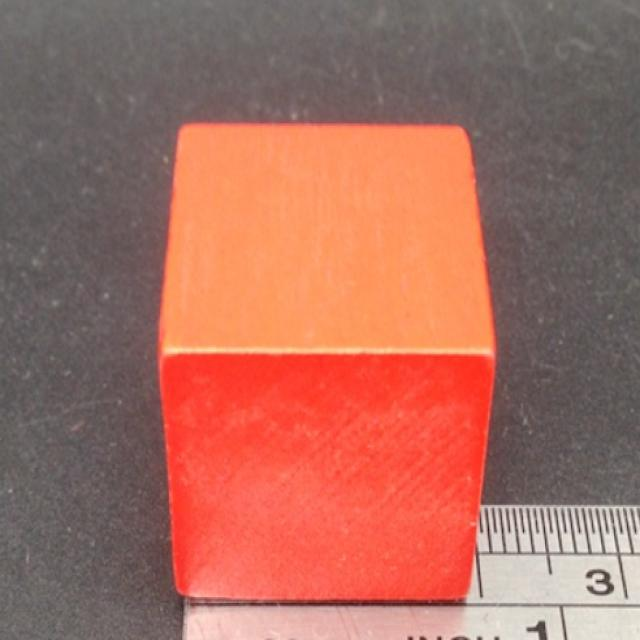red cube: (156, 120, 498, 605)
